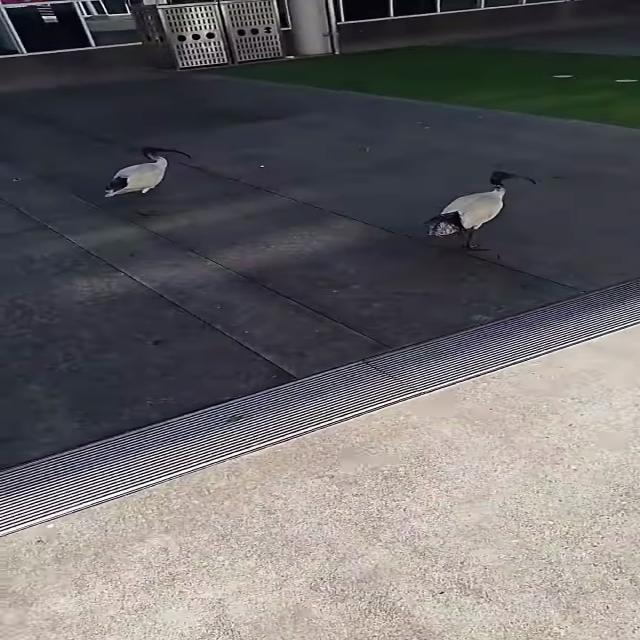Birds-Ibis: (416, 164, 543, 255), (96, 141, 199, 220)
